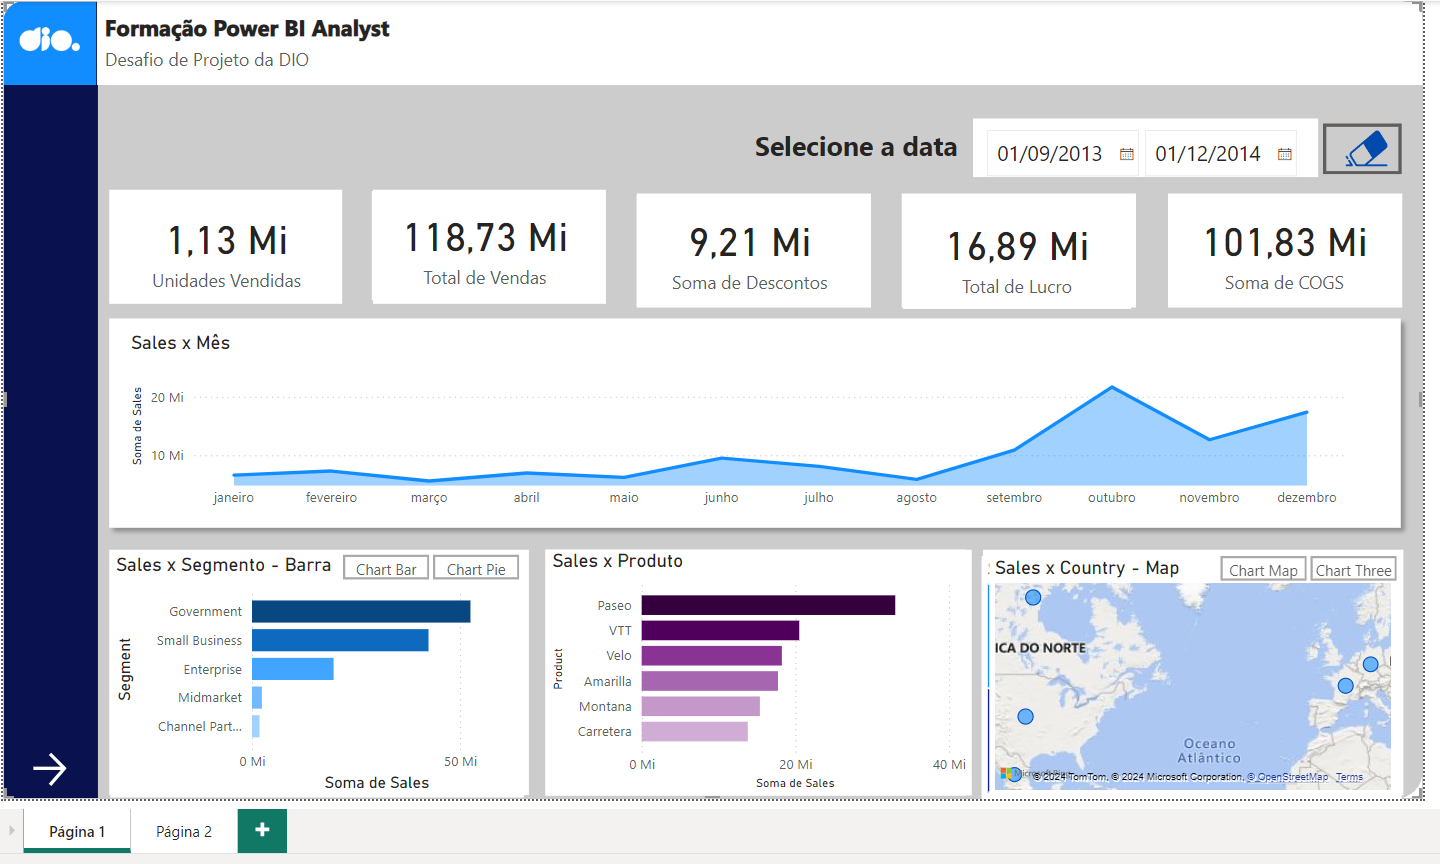

The page's visual inventory and layout, read from the dashboard file:
{"tool":"powerbi","page":{"name":"Página 1","canvas":[1280,720],"ordinal":0},"visuals":[{"type":"group","id":"g1","title":"Grupo 1","box":[0,0,1280.2,720],"z":0},{"type":"group","id":"g2","title":"Barra Lateral","box":[0,0,85.7,720],"z":0,"group":"g5"},{"type":"shape","box":[0,0,85.7,720],"z":0,"group":"g2"},{"type":"shape","box":[0,1.2,1280.2,718.6],"z":0,"group":"g1"},{"type":"shape","box":[98.6,125.7,234.3,52.9],"z":0,"group":"g8"},{"type":"shape","box":[95.7,170,210,102.9],"z":0,"group":"g9"},{"type":"group","id":"g3","title":"Sales x Segmento","box":[97,498,372.9,219.8],"z":0,"group":"g12"},{"type":"donutChart","title":"Sales x Segmento","fields":{"Y":["Sum(financials. Sales)"],"Category":["financials.Segment"]},"box":[103.9,498.1,365.9,218.4],"z":0,"group":"g3"},{"type":"actionButton","box":[1097.8,500.9,77.9,22.3],"z":0,"group":"g7"},{"type":"group","id":"g4","title":"Sales x País","box":[882.9,501.5,378.6,218.6],"z":0,"group":"g11"},{"type":"treemap","title":"Sales x Country - Tree Map","fields":{"Group":["financials.Country"],"Values":["Sum(financials. Sales)"]},"box":[882.9,502.8,378.6,217.1],"z":0,"group":"g4"},{"type":"group","id":"g5","title":"Barra lateral + seta + fundo","box":[0,0,85.7,720],"z":1000,"group":"g1"},{"type":"shape","box":[0,0,84.3,75.7],"z":1000,"group":"g2"},{"type":"textbox","box":[95.7,94.3,237.1,55.7],"z":1000,"group":"g8"},{"type":"slicer","fields":{"Values":["financials.Date"]},"box":[874.3,105.7,311.4,52.9],"z":1000,"group":"g10"},{"type":"shape","box":[333.6,170,210,102.9],"z":1000,"group":"g9"},{"type":"shape","box":[95.7,494.6,378.4,221.2],"z":1000},{"type":"group","id":"g6","title":"Grupo Botoes segmento","box":[307,499.5,158.6,22.3],"z":1000,"group":"g12"},{"type":"actionButton","title":"Botão Pie","box":[387.7,499.5,77.9,22.3],"z":1000,"group":"g6"},{"type":"group","id":"g7","title":"Grupo Botoes Country","box":[1097.8,500.9,158.6,22.3],"z":1000,"group":"g11"},{"type":"actionButton","box":[1178.5,500.9,77.9,22.3],"z":1000,"group":"g7"},{"type":"actionButton","title":"Botão seta","box":[21.4,672.9,42.9,40],"z":1000,"group":"g5"},{"type":"actionButton","title":"Botão Bar","box":[307,499.5,77.9,22.3],"z":1500,"group":"g6"},{"type":"image","box":[10,1.4,64.3,67.1],"z":2000,"group":"g2"},{"type":"textbox","box":[672.9,108.6,201.4,54.3],"z":2000,"group":"g10"},{"type":"shape","box":[571.4,172.9,211.4,102.9],"z":2000,"group":"g9"},{"type":"shape","box":[489.6,494.6,378.4,221.2],"z":2000},{"type":"image","box":[1188.6,108.6,80,47.1],"z":2500,"group":"g10"},{"type":"shape","box":[84.3,0,1195.7,75.7],"z":3000},{"type":"actionButton","title":"Botao Clean Data","box":[1190.7,110.3,71,45.9],"z":3000,"group":"g10"},{"type":"shape","box":[810.7,172.9,211.4,102.9],"z":3000,"group":"g9"},{"type":"card","fields":{"Values":["Sum(financials. Sales)"]},"box":[332.8,171.4,204.3,98.6],"z":4000,"group":"g9"},{"type":"shape","box":[883.5,494.5,379.1,221.3],"z":4000},{"type":"textbox","title":"Formação Power BI Analyst","box":[87.1,10,377.1,55.7],"z":5000},{"type":"card","fields":{"Values":["Sum(financials.Units Sold)"]},"box":[100,172.9,202.9,98.6],"z":5000,"group":"g9"},{"type":"shape","box":[1050,172.9,211.4,102.9],"z":6000,"group":"g9"},{"type":"shape","box":[86.8,277.6,1182.5,206.7],"z":6000},{"type":"card","fields":{"Values":["Sum(financials.Discounts)"]},"box":[571.4,175.7,204.3,98.6],"z":7000,"group":"g9"},{"type":"areaChart","title":"Sales x Mês","fields":{"Category":["financials.Date.Variation.Hierarquia de datas.Mês"],"Y":["Sum(financials. Sales)"]},"box":[110,297.1,1105.7,168.6],"z":7000},{"type":"card","fields":{"Values":["Sum(financials.Profit)"]},"box":[811.4,178.6,205.7,98.6],"z":8000,"group":"g9"},{"type":"barChart","title":"Sales x Produto","fields":{"Y":["Sum(financials. Sales)"],"Category":["financials.Product"]},"box":[490,494.3,382.9,221.4],"z":8000},{"type":"group","id":"g8","title":"Title Report","box":[95.7,94.3,237.1,84.3],"z":9000},{"type":"card","fields":{"Values":["Sum(financials.COGS)"]},"box":[1052.8,175.7,205.7,98.6],"z":9000,"group":"g9"},{"type":"group","id":"g9","title":"Cartões","box":[95.7,170,1165.7,107.1],"z":10000},{"type":"group","id":"g10","title":"Filtro data","box":[672.9,105.7,595.7,57.1],"z":11000},{"type":"group","id":"g11","title":"sales x Pais + botao","box":[882.9,500.9,378.6,219.1],"z":12000},{"type":"group","id":"g12","title":"Sales segmento + botao","box":[97,498,372.9,219.8],"z":13000}]}

Visuals, with their boxes in screenshot pixels (x1, y1, x2, y2):
"Grupo 1" group: (0,0,1420,795)
"Barra Lateral" group: (0,0,95,795)
shape: (0,0,95,795)
shape: (0,0,1420,795)
shape: (109,136,369,194)
shape: (106,185,339,299)
"Sales x Segmento" group: (108,549,521,793)
"Sales x Segmento" donutChart: (115,549,521,791)
actionButton: (1218,552,1304,577)
"Sales x País" group: (980,553,1400,795)
"Sales x Country - Tree Map" treemap: (980,554,1400,795)
"Barra lateral + seta + fundo" group: (0,0,95,795)
shape: (0,0,94,80)
textbox: (106,101,369,163)
slicer - financials.Date: (970,114,1315,172)
shape: (370,185,603,299)
shape: (106,545,526,790)
"Grupo Botoes segmento" group: (341,550,517,575)
"Botão Pie" actionButton: (430,550,517,575)
"Grupo Botoes Country" group: (1218,552,1394,577)
actionButton: (1307,552,1394,577)
"Botão seta" actionButton: (24,743,71,787)
"Botão Bar" actionButton: (341,550,427,575)
image: (11,0,82,72)
textbox: (747,117,970,177)
shape: (634,188,868,302)
shape: (543,545,963,790)
image: (1319,117,1407,169)
shape: (94,0,1420,80)
"Botao Clean Data" actionButton: (1321,119,1400,170)
shape: (899,188,1134,302)
card - Sum(financials. Sales): (369,186,596,296)
shape: (980,545,1401,790)
"Formação Power BI Analyst" textbox: (97,7,515,69)
card - Sum(financials.Units Sold): (111,188,336,297)
shape: (1165,188,1399,302)
shape: (96,304,1408,534)
card - Sum(financials.Discounts): (634,191,861,301)
"Sales x Mês" areaChart: (122,326,1349,513)
card - Sum(financials.Profit): (900,194,1128,304)
"Sales x Produto" barChart: (544,545,968,790)
"Title Report" group: (106,101,369,194)
card - Sum(financials.COGS): (1168,191,1396,301)
"Cartões" group: (106,185,1399,304)
"Filtro data" group: (747,114,1407,177)
"sales x Pais + botao" group: (980,552,1400,795)
"Sales segmento + botao" group: (108,549,521,793)
